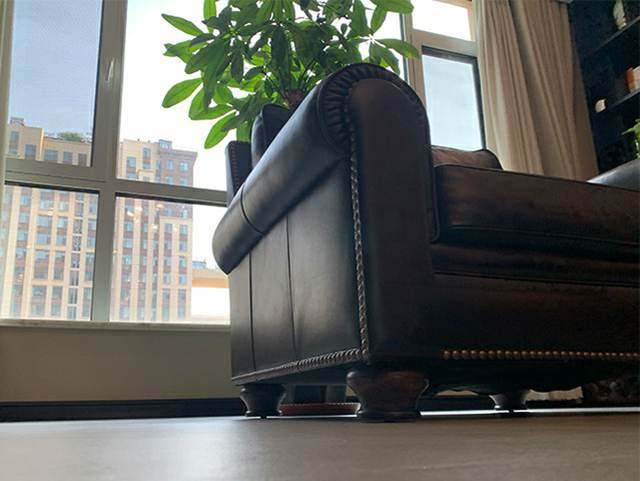sofa: (211, 61, 640, 425)
